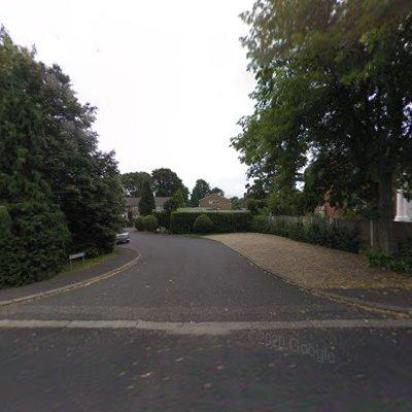stationary-car-onstreet: (113, 227, 129, 245)
